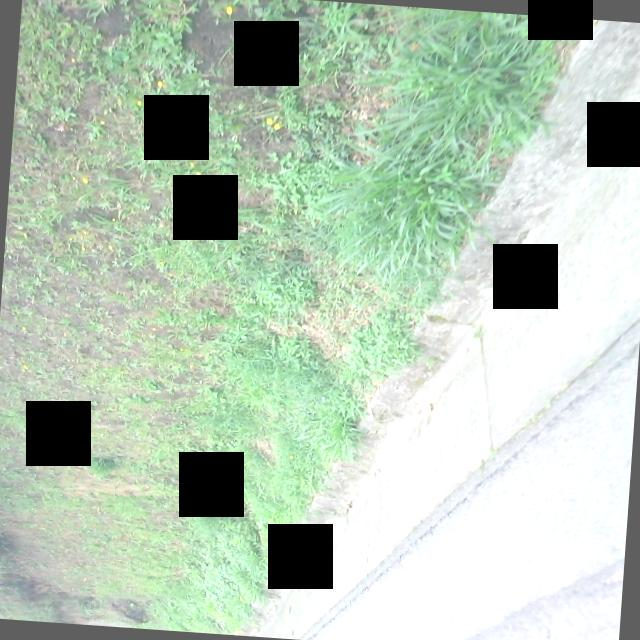DITCH: (67, 0, 640, 640), (236, 0, 640, 640)
